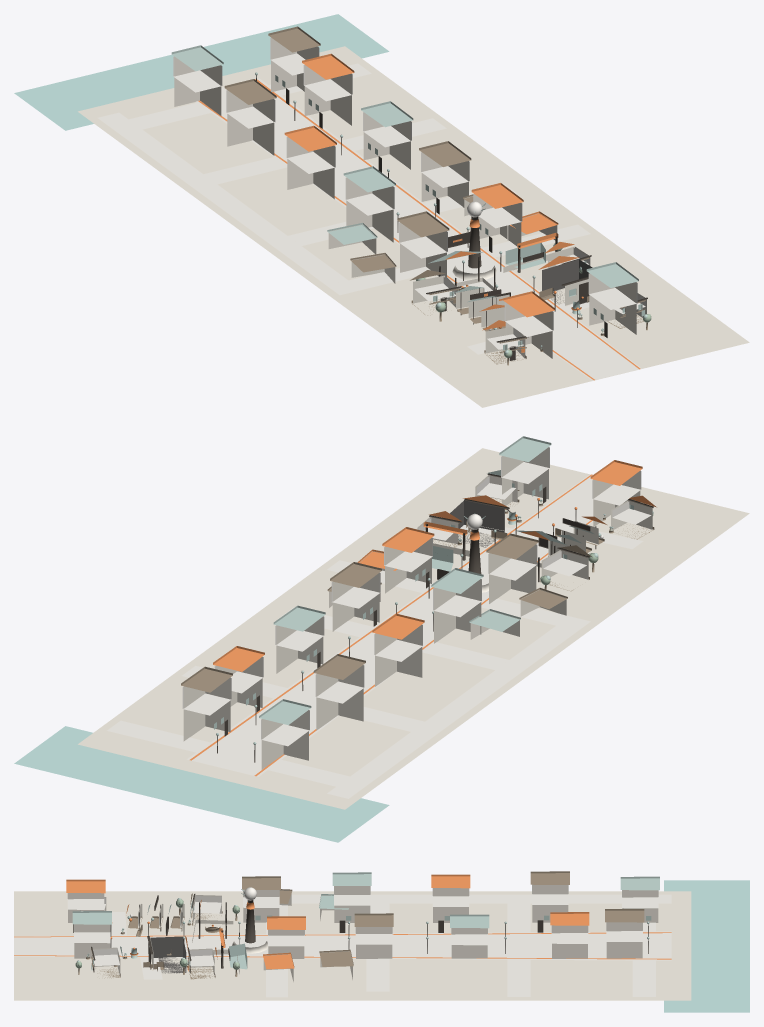
Rendered from environment.glb.
3 views of the same model, one above another, from view 1: azimuth 30°, elevation 25°; view 2: azimuth 150°, elevation 25°; view 3: azimuth 270°, elevation 25° (orthographic). The views are drawn at different scales.
Parts seen in each view (by area): view 1: BeaconCommons_Mesh; view 2: BeaconCommons_Mesh; view 3: BeaconCommons_Mesh.
Boxes of the visible parts, x1,y1,x2,y2 form: BeaconCommons_Mesh: (14,14,749,407); BeaconCommons_Mesh: (14,436,749,842); BeaconCommons_Mesh: (14,871,749,1012).
Bounding box in the file's own units: 40 × 8.25 × 94.
